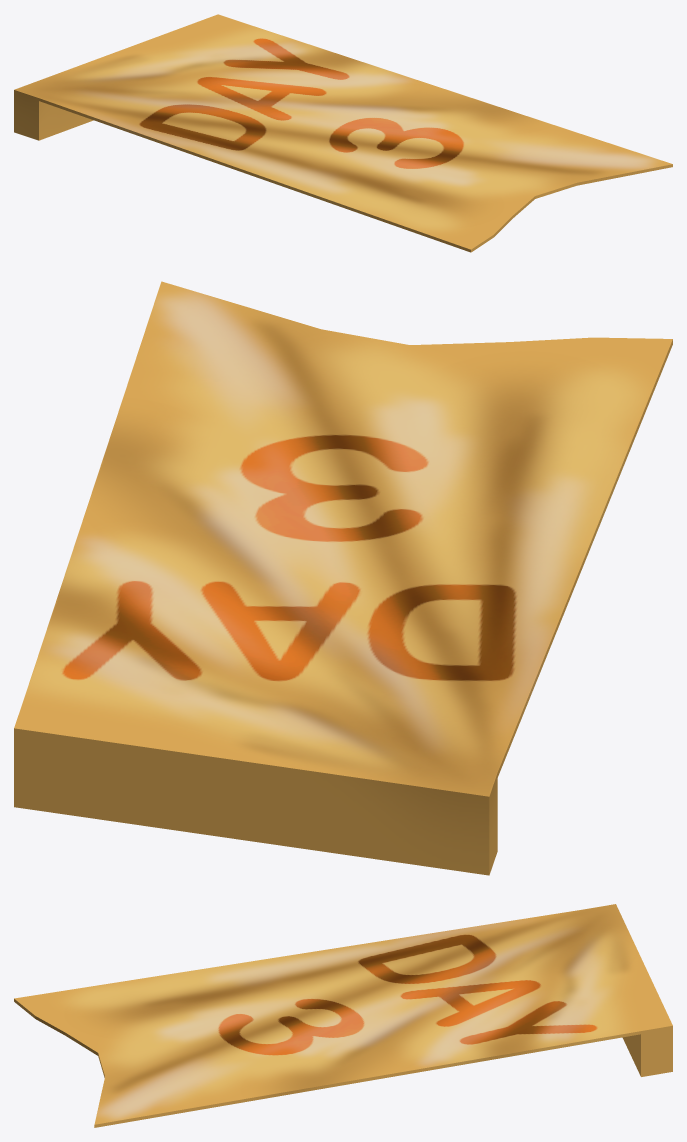
Rendered from level_select_bookmark_3.glb.
3 renders of one model, top to bottom at view 1: azimuth 30°, elevation 25°; view 2: azimuth 150°, elevation 25°; view 3: azimuth 270°, elevation 25°, orthographic. The views are drawn at different scales.
Parts seen in each view (by area): view 1: Cube; view 2: Cube; view 3: Cube.
Boxes of the visible parts, x1=… form: Cube: x1=14, y1=14, x2=672, y2=252; Cube: x1=14, y1=281, x2=672, y2=875; Cube: x1=14, y1=904, x2=672, y2=1127.
Bounding box in the file's own units: 0.6273 × 0.0611 × 0.7912.
Materials: 1 (1 with a texture image).
